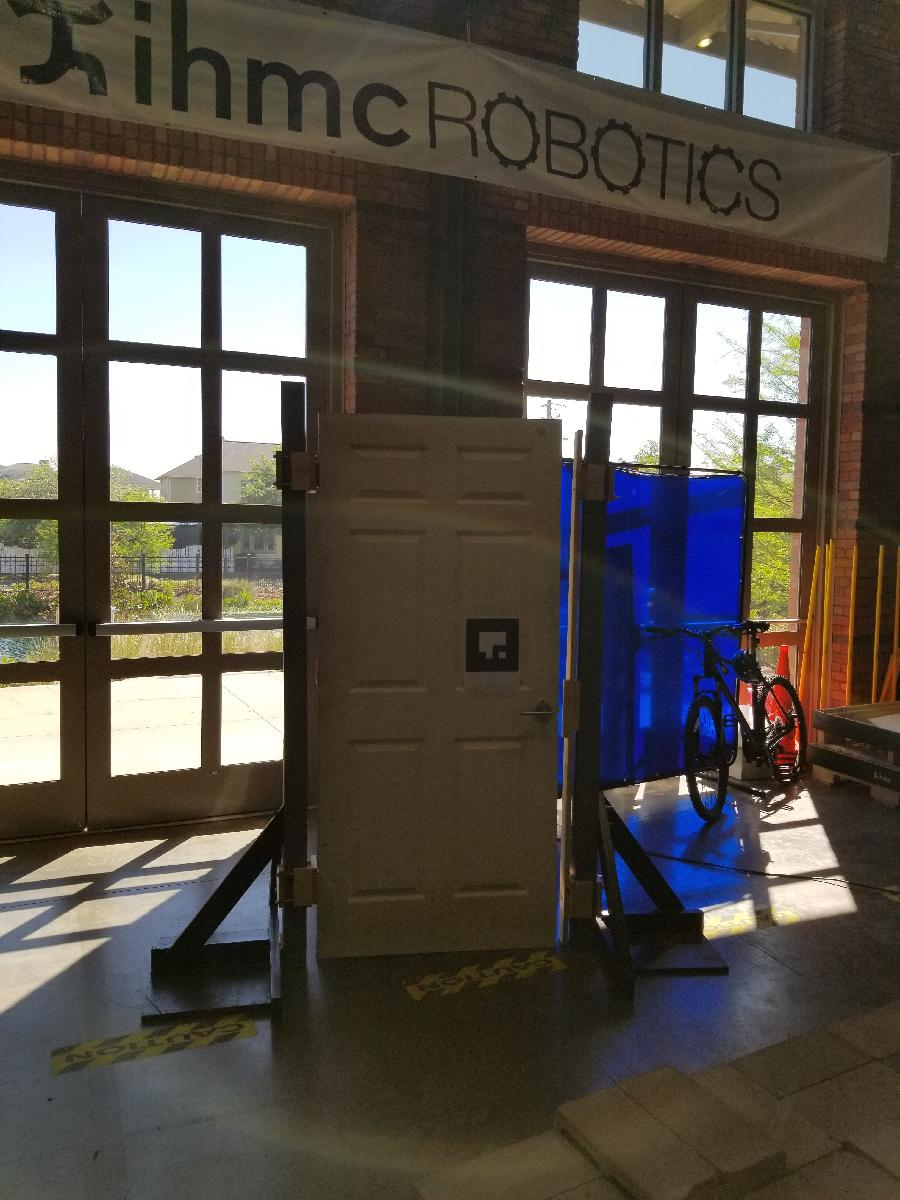door: (310, 408, 571, 965)
doorHandle: (520, 698, 564, 727)
